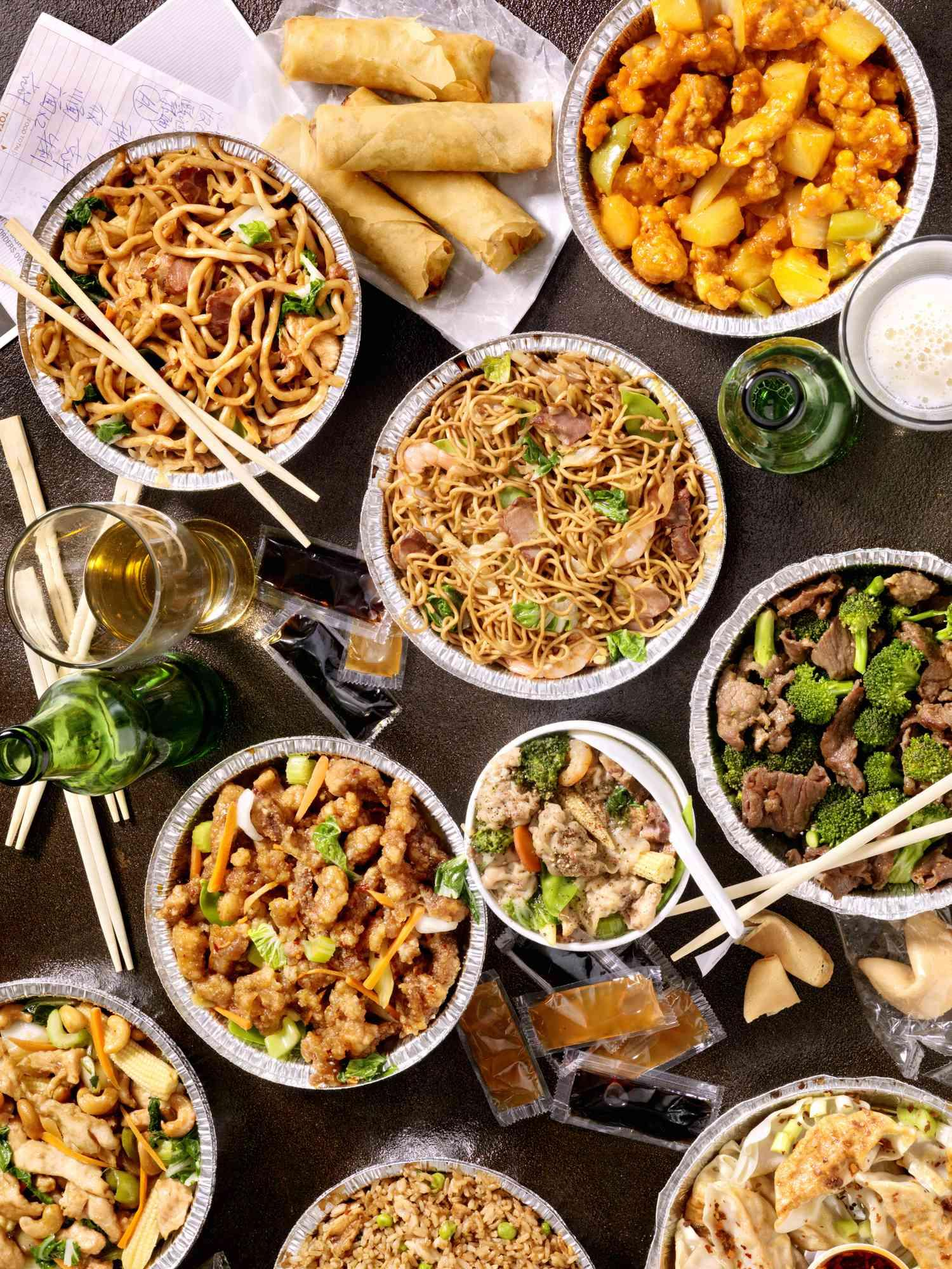Braised Crucian Carp: (15, 132, 364, 471), (145, 743, 486, 1087), (602, 0, 927, 339), (359, 338, 650, 650), (270, 13, 551, 301), (692, 561, 942, 843), (0, 978, 218, 1268), (659, 1074, 939, 1266), (461, 733, 666, 958), (269, 1158, 583, 1269)
